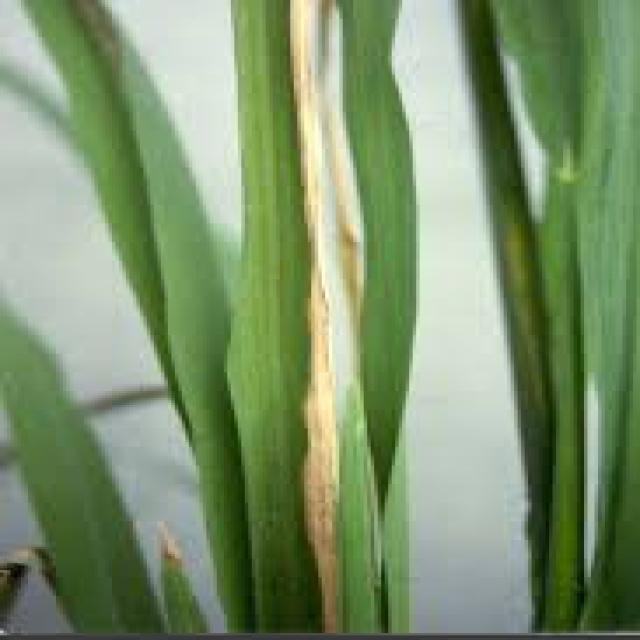Bacterial_Leaf_Blight: (220, 4, 426, 640)
